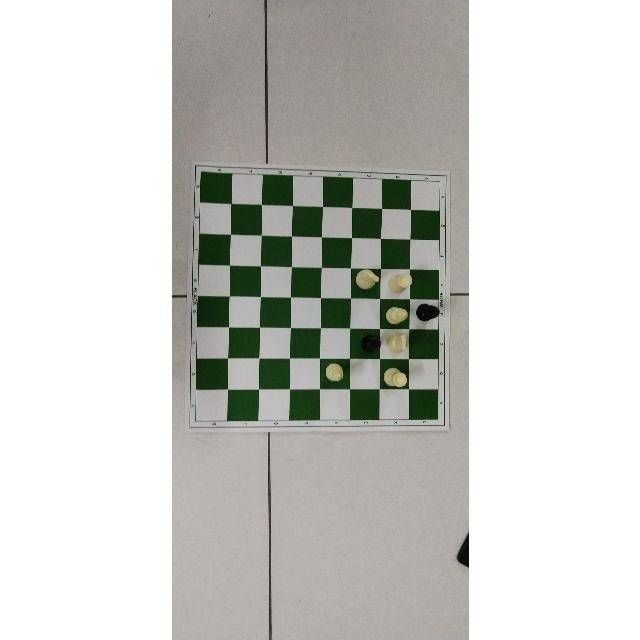black-bishop: (414, 303, 439, 322), (360, 334, 380, 353)
white-bishop: (385, 306, 408, 324), (324, 363, 343, 383)
white-knight: (385, 332, 408, 354), (354, 270, 379, 290)
white-rook: (387, 273, 412, 294), (381, 367, 406, 387)
